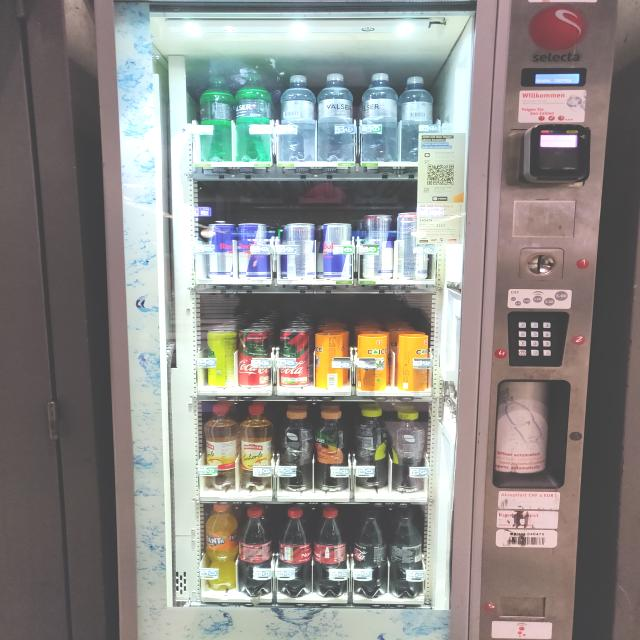c-swiss_dosenabisicetea__33__9120025930135: (392, 334, 431, 392), (357, 333, 392, 393), (313, 332, 348, 390)
coke__dose_33__54491472: (278, 331, 311, 386), (242, 329, 272, 388)
coke__flasche_50__54491472: (237, 505, 277, 596), (314, 506, 353, 597), (279, 505, 315, 597)
coke_zero_flasche_50__5449000131836: (389, 510, 429, 598), (351, 508, 390, 598)
fanta___50__40822938: (201, 504, 241, 590)
fuse_lemon__50__5449000235947: (391, 411, 431, 492), (355, 411, 390, 489)
fuse_lemon_dose_33__5449000235947: (205, 329, 239, 388)
fuse_peach__50__5449000236623: (314, 409, 355, 491), (278, 408, 318, 492)
ramseier_schorle__50__7610057012456: (240, 403, 278, 491), (203, 404, 240, 489)
redbull___33__90162909: (360, 212, 399, 279), (396, 212, 432, 281), (236, 223, 275, 278), (318, 224, 356, 279), (282, 221, 316, 280), (205, 222, 237, 280)
valser_classic__50__76404160: (233, 73, 274, 162), (198, 76, 234, 160)
valser_still__50__7610335002575: (320, 72, 360, 161), (362, 71, 401, 162), (279, 74, 319, 160), (402, 73, 439, 161)
